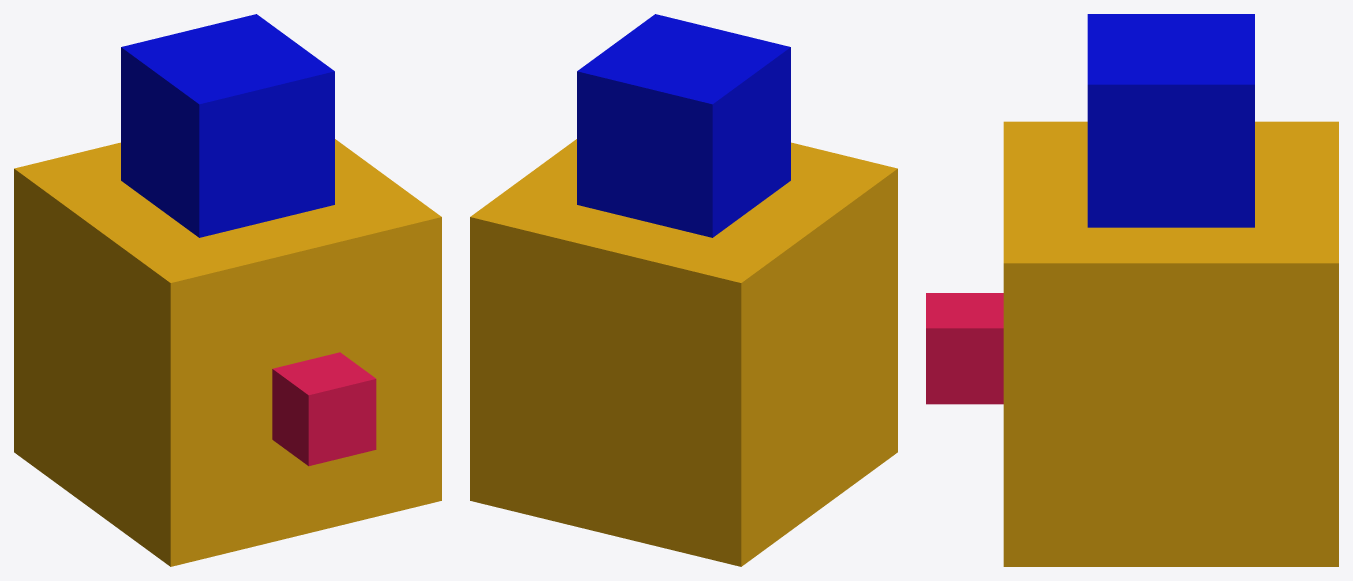
The model's file is testcube.glb.
3 renders of one model, left to right at view 1: azimuth 30°, elevation 25°; view 2: azimuth 150°, elevation 25°; view 3: azimuth 270°, elevation 25°, orthographic. The views are drawn at different scales.
Parts seen in each view (by area): view 1: Cube, Cube.001, Cube.002; view 2: Cube, Cube.001; view 3: Cube, Cube.001, Cube.002.
Part boxes in pixels (<box>): Cube: <box>14,139,441,566</box>; Cube.001: <box>121,14,334,237</box>; Cube.002: <box>272,352,376,466</box>; Cube: <box>470,139,897,566</box>; Cube.001: <box>577,14,790,237</box>; Cube: <box>1003,121,1338,566</box>; Cube.001: <box>1087,14,1254,227</box>; Cube.002: <box>926,293,1003,404</box>.
Bounding box in the file's own units: 1 × 1.47 × 1.23.
